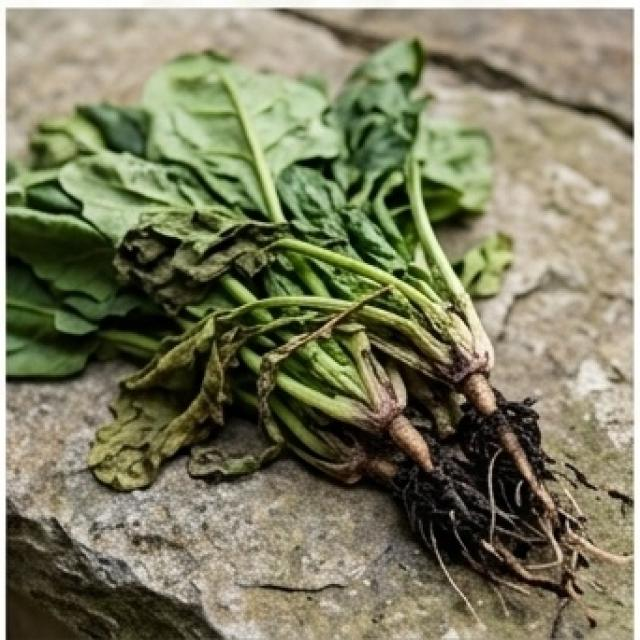rotten spinach: (29, 30, 608, 618)
